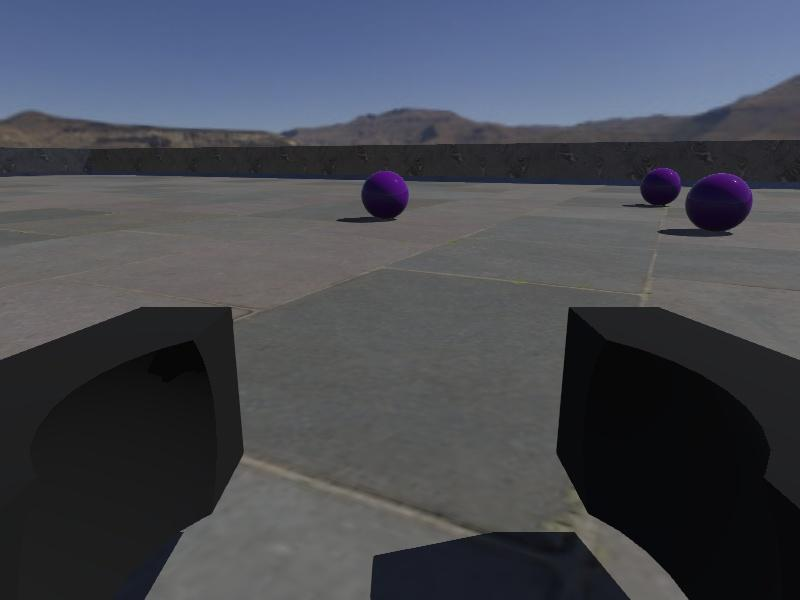violet ball: (686, 172, 754, 233), (361, 172, 409, 219), (640, 167, 682, 206)
